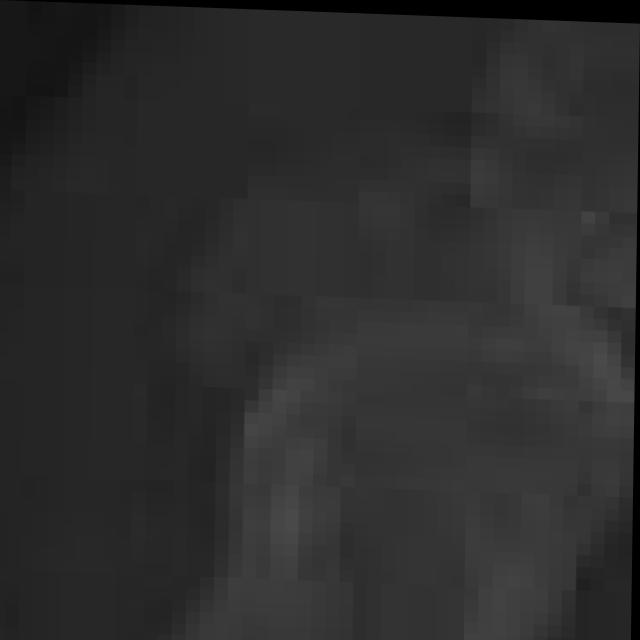fracture: (0, 15, 640, 640)
